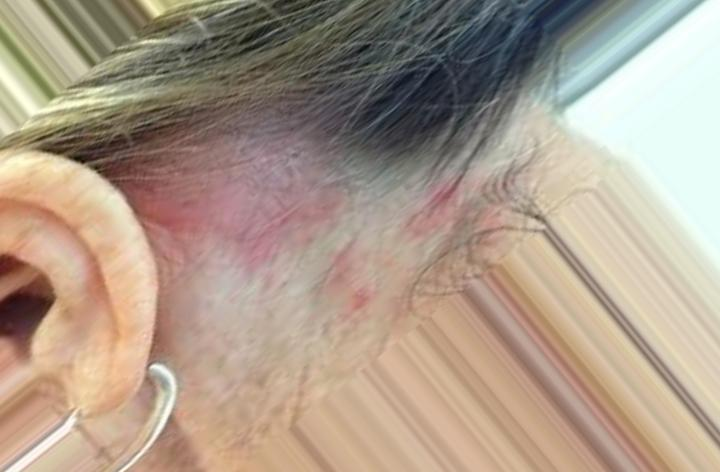Contact Dermatitis: (153, 106, 461, 329)
